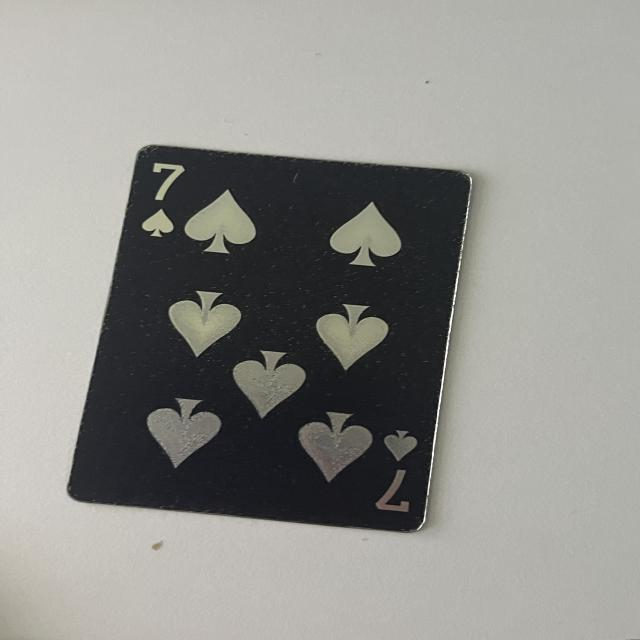7S: (137, 148, 186, 244), (379, 426, 420, 513)
